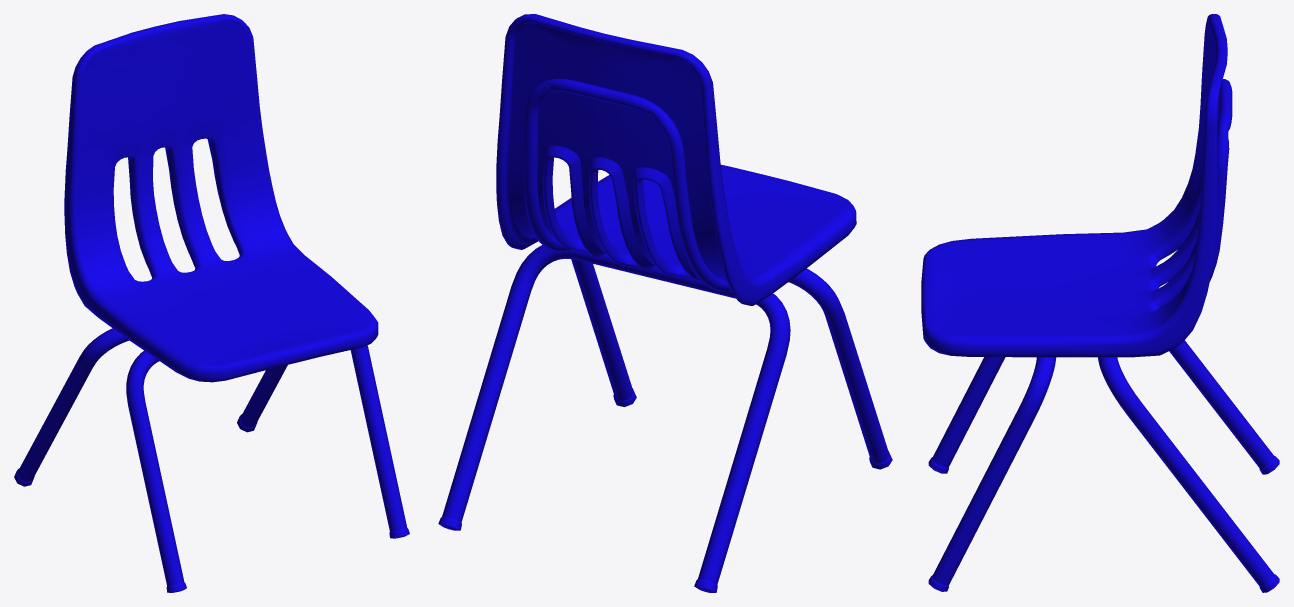
Rendered from SchoolChair_01.glb.
3 renders of one model, left to right at view 1: azimuth 30°, elevation 25°; view 2: azimuth 150°, elevation 25°; view 3: azimuth 270°, elevation 25°, orthographic. The views are drawn at different scales.
Parts seen in each view (by area): view 1: SchoolChair_01; view 2: SchoolChair_01; view 3: SchoolChair_01.
Part boxes in pixels (left/top/right/bottom): SchoolChair_01: left=14, top=14, right=409, bottom=592; SchoolChair_01: left=438, top=14, right=892, bottom=592; SchoolChair_01: left=921, top=14, right=1279, bottom=592.
Size of the model in its own units: 0.5659 by 1.01 by 0.6753.
